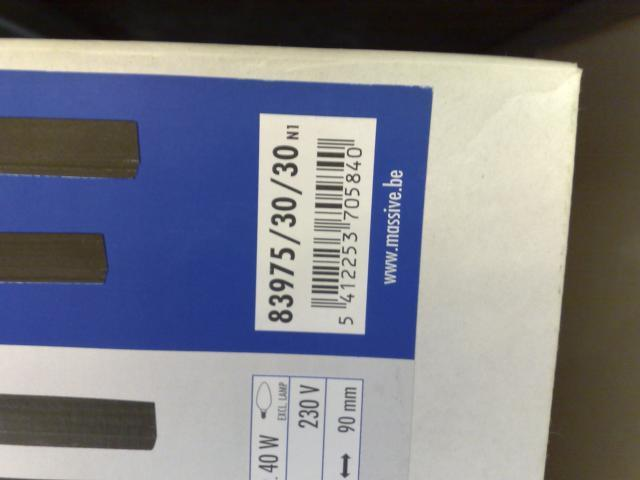Barcode: (306, 111, 378, 334)
